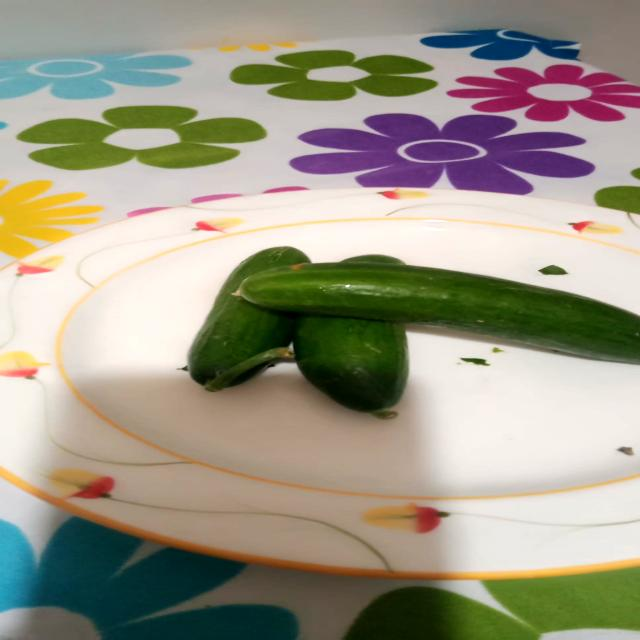cucumber: (229, 254, 640, 371)
